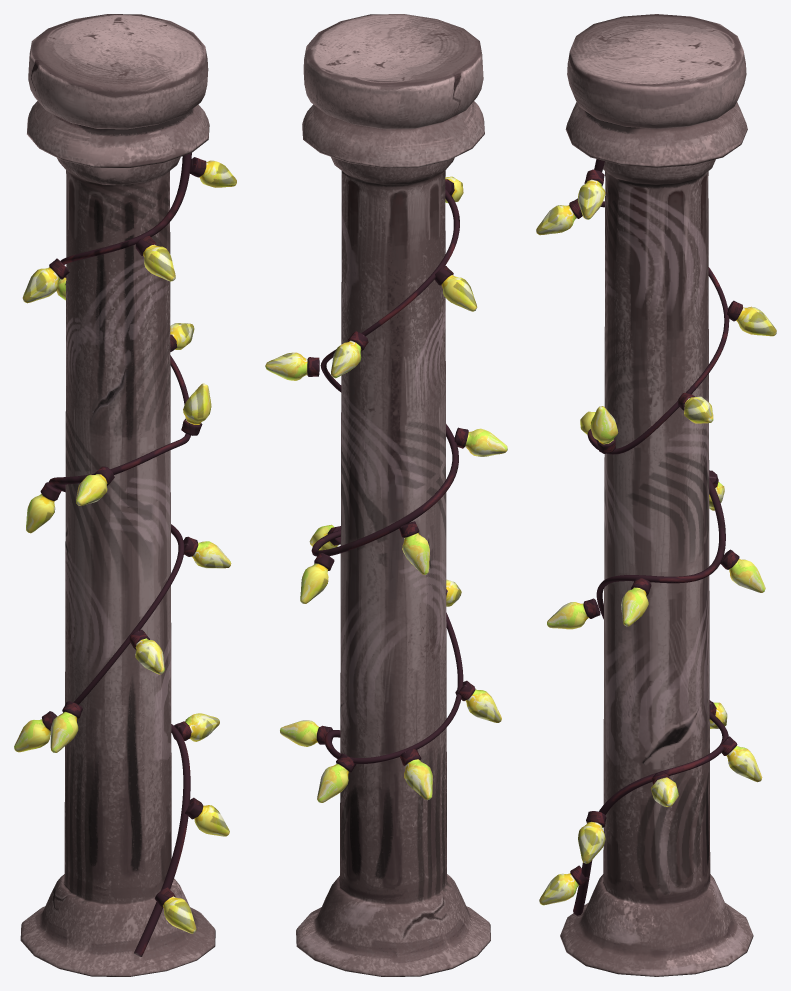
File: pillar.glb
3 views of the same model, side by side, from view 1: azimuth 30°, elevation 25°; view 2: azimuth 150°, elevation 25°; view 3: azimuth 270°, elevation 25° (orthographic).
Visible parts, largest first — view 1: PILLAR; view 2: PILLAR; view 3: PILLAR.
Boxes of the visible parts, x1=… form: PILLAR: x1=14, y1=14, x2=236, y2=976; PILLAR: x1=265, y1=14, x2=507, y2=976; PILLAR: x1=536, y1=14, x2=776, y2=976.
Size of the model in its own units: 1.34 by 5.8 by 1.42.
Materials: 1 (1 with a texture image).
